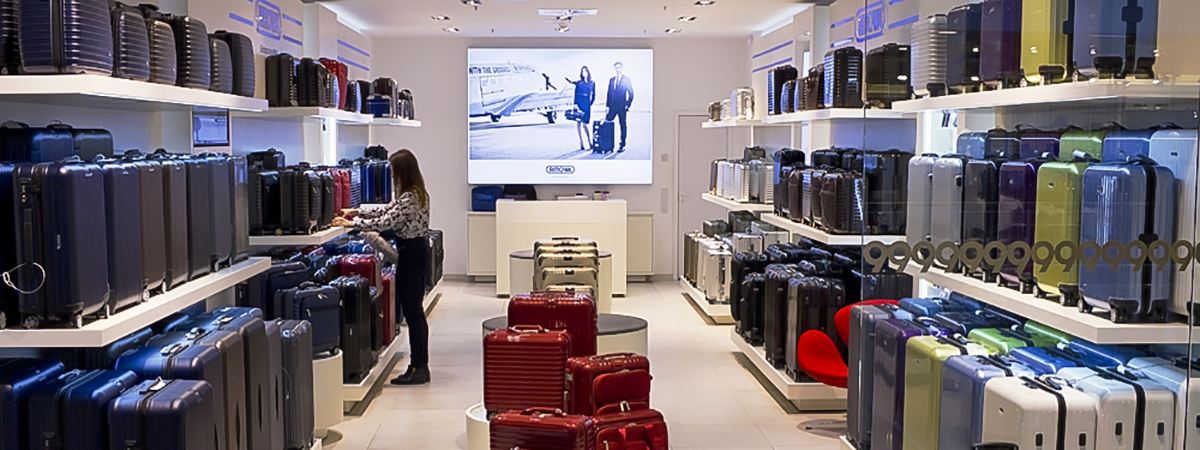luggage: (1075, 156, 1181, 323), (11, 161, 111, 324), (894, 335, 982, 450), (937, 352, 1025, 450), (985, 375, 1096, 450), (98, 157, 152, 311), (477, 324, 571, 411), (1031, 153, 1085, 301), (872, 317, 931, 450), (113, 381, 215, 447), (992, 157, 1037, 291), (331, 275, 381, 385), (786, 279, 839, 382), (508, 290, 598, 350), (275, 280, 346, 355), (565, 354, 654, 412), (959, 156, 998, 277), (927, 153, 964, 271), (977, 2, 1024, 87), (907, 17, 952, 94), (943, 4, 982, 92), (111, 7, 153, 83), (277, 168, 324, 235), (144, 16, 185, 89), (820, 44, 866, 108), (250, 168, 287, 238), (174, 15, 209, 89), (262, 50, 304, 105), (732, 270, 761, 346), (703, 249, 735, 303), (208, 35, 234, 95), (300, 61, 333, 104), (342, 158, 369, 208), (767, 66, 793, 114), (731, 88, 754, 118), (376, 161, 392, 203)
